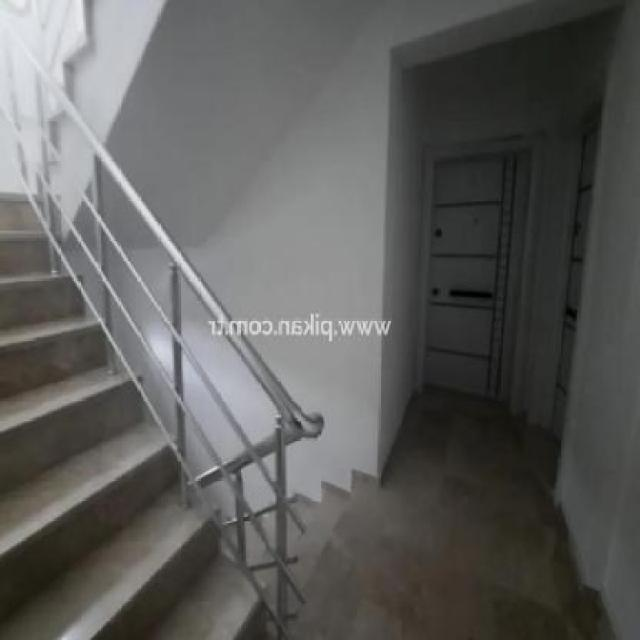stair: (0, 192, 292, 639), (25, 0, 129, 165)
